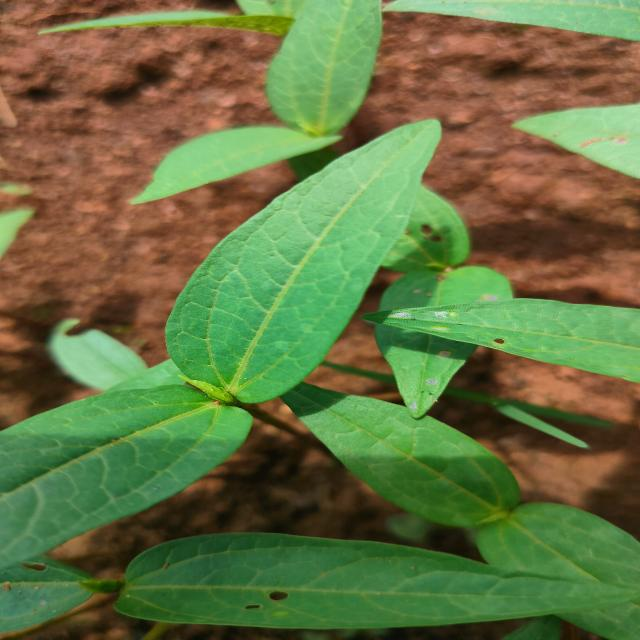Black gram_healthy: (156, 117, 445, 406), (128, 528, 627, 632), (0, 384, 250, 563), (275, 371, 514, 523), (471, 501, 640, 640), (375, 301, 640, 384), (253, 0, 390, 137), (134, 125, 354, 206)
